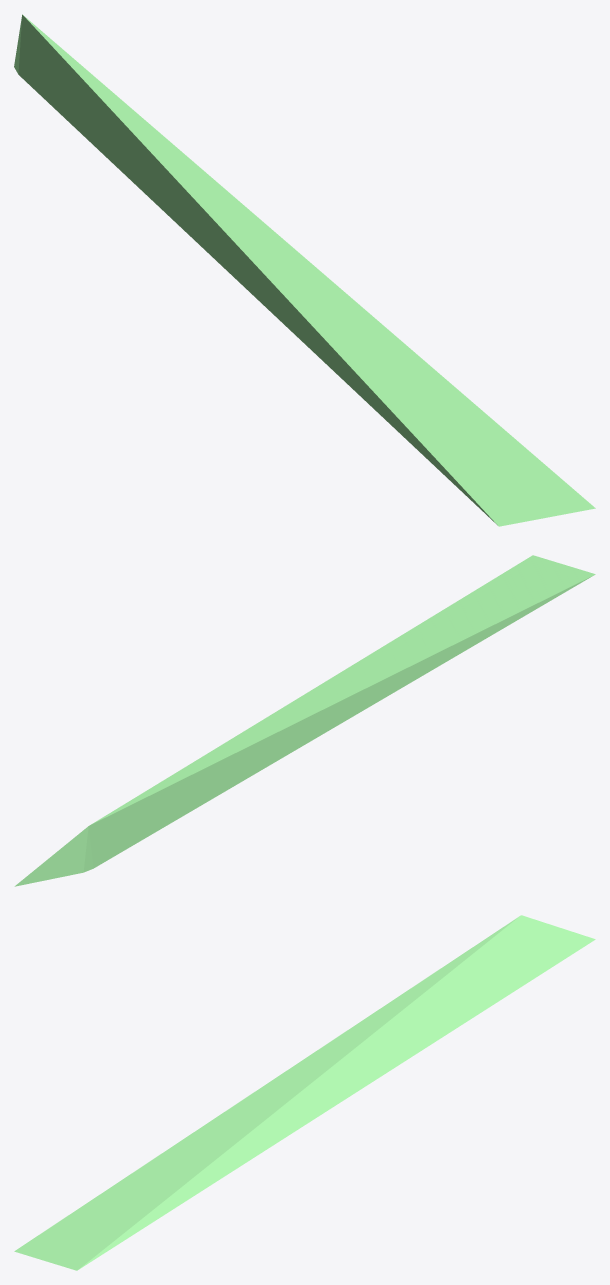
Rendered from dvkr_robot_L2_respondable_PSM2_coll_10.dae.
3 renders of one model, top to bottom at view 1: azimuth 30°, elevation 25°; view 2: azimuth 150°, elevation 25°; view 3: azimuth 330°, elevation 25°, orthographic. The views are drawn at different scales.
Visible parts, largest first — view 1: Node_0000023514CD6980; view 2: Node_0000023514CD6980; view 3: Node_0000023514CD6980.
Part boxes in pixels (x1,y1,x2,y2): Node_0000023514CD6980: (14,14,595,526); Node_0000023514CD6980: (14,555,595,886); Node_0000023514CD6980: (14,915,595,1270).
Size of the model in its own units: 0.0519 by 0.0181 by 0.3625.
